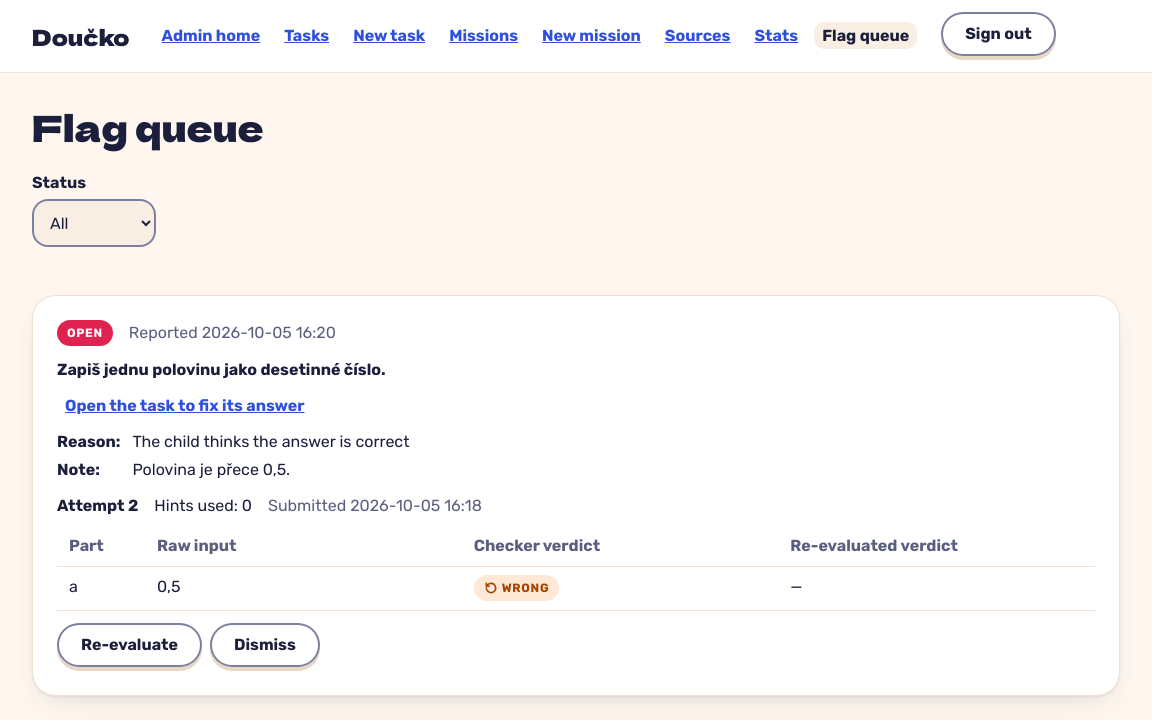
Scenario: re-evaluate and dismiss (FR-41) › re-evaluates against the current answer spec: fixed, +4 XP, focus on the outcome (Re-evaluation awards the missing XP)
Check: the heading "Flag queue" is shown, box [32,100,264,152]
Click the button "Re-evaluate": (130, 645) [57,623,202,667]
(page scrolled)
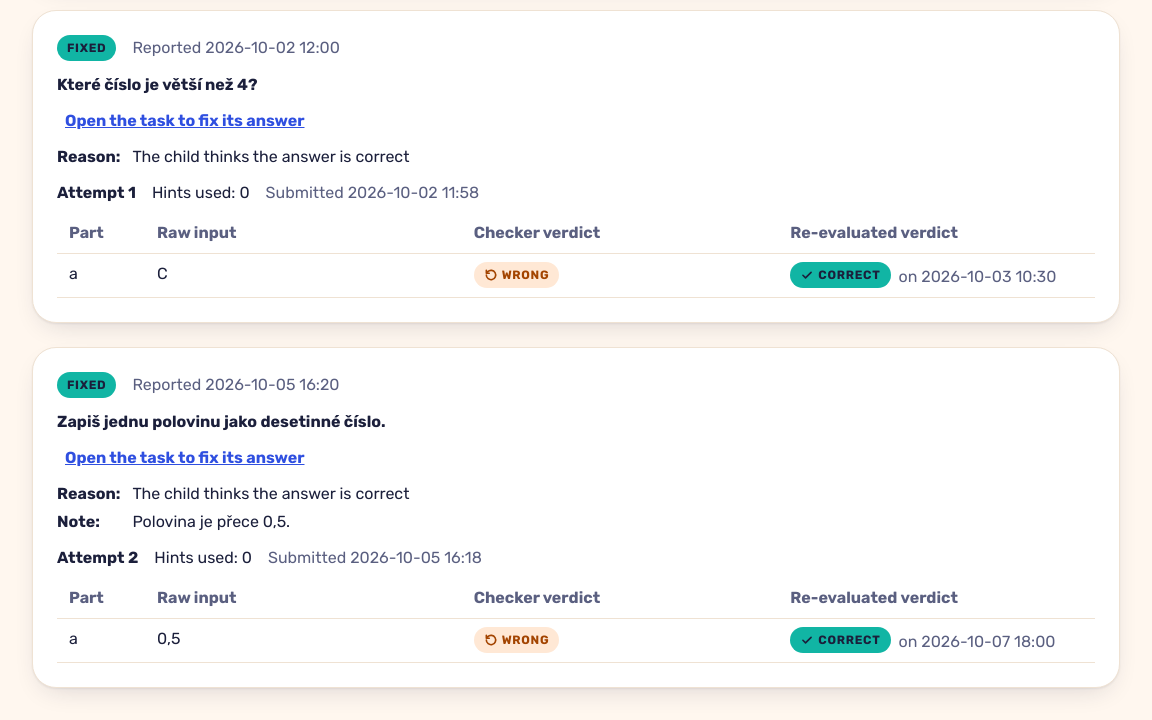
Check: the text "Fixed" next to "Reported 2026-10-05 16:20" is shown, box [67,378,106,392]
Check: the text "Correct" next to "on 2026-10-07 18:00" is shown, box [818,633,880,647]
